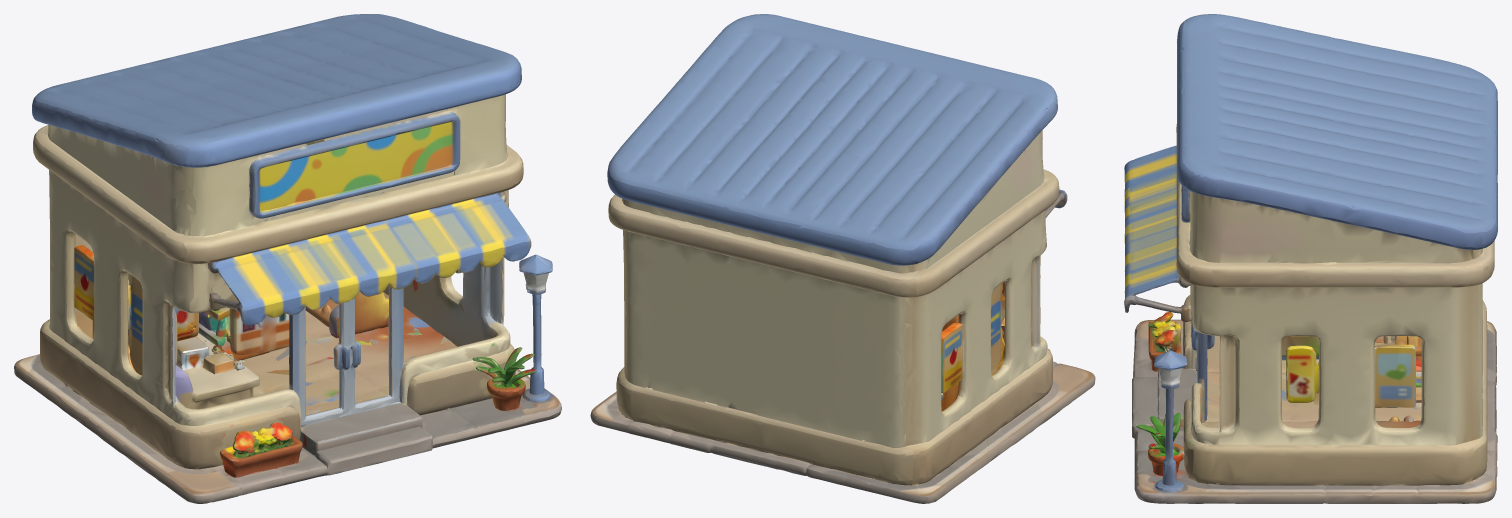
The model's file is Store.glb.
3 views of the same model, side by side, from view 1: azimuth 30°, elevation 25°; view 2: azimuth 150°, elevation 25°; view 3: azimuth 270°, elevation 25° (orthographic). The views are drawn at different scales.
Parts seen in each view (by area): view 1: geometry_0; view 2: geometry_0; view 3: geometry_0.
Part boxes in pixels (x1,y1,x2,y2): geometry_0: [14, 14, 561, 503]; geometry_0: [590, 14, 1095, 503]; geometry_0: [1124, 14, 1497, 503].
Size of the model in its own units: 0.25 by 0.2144 by 0.2232.
Materials: 1 (1 with a texture image).
